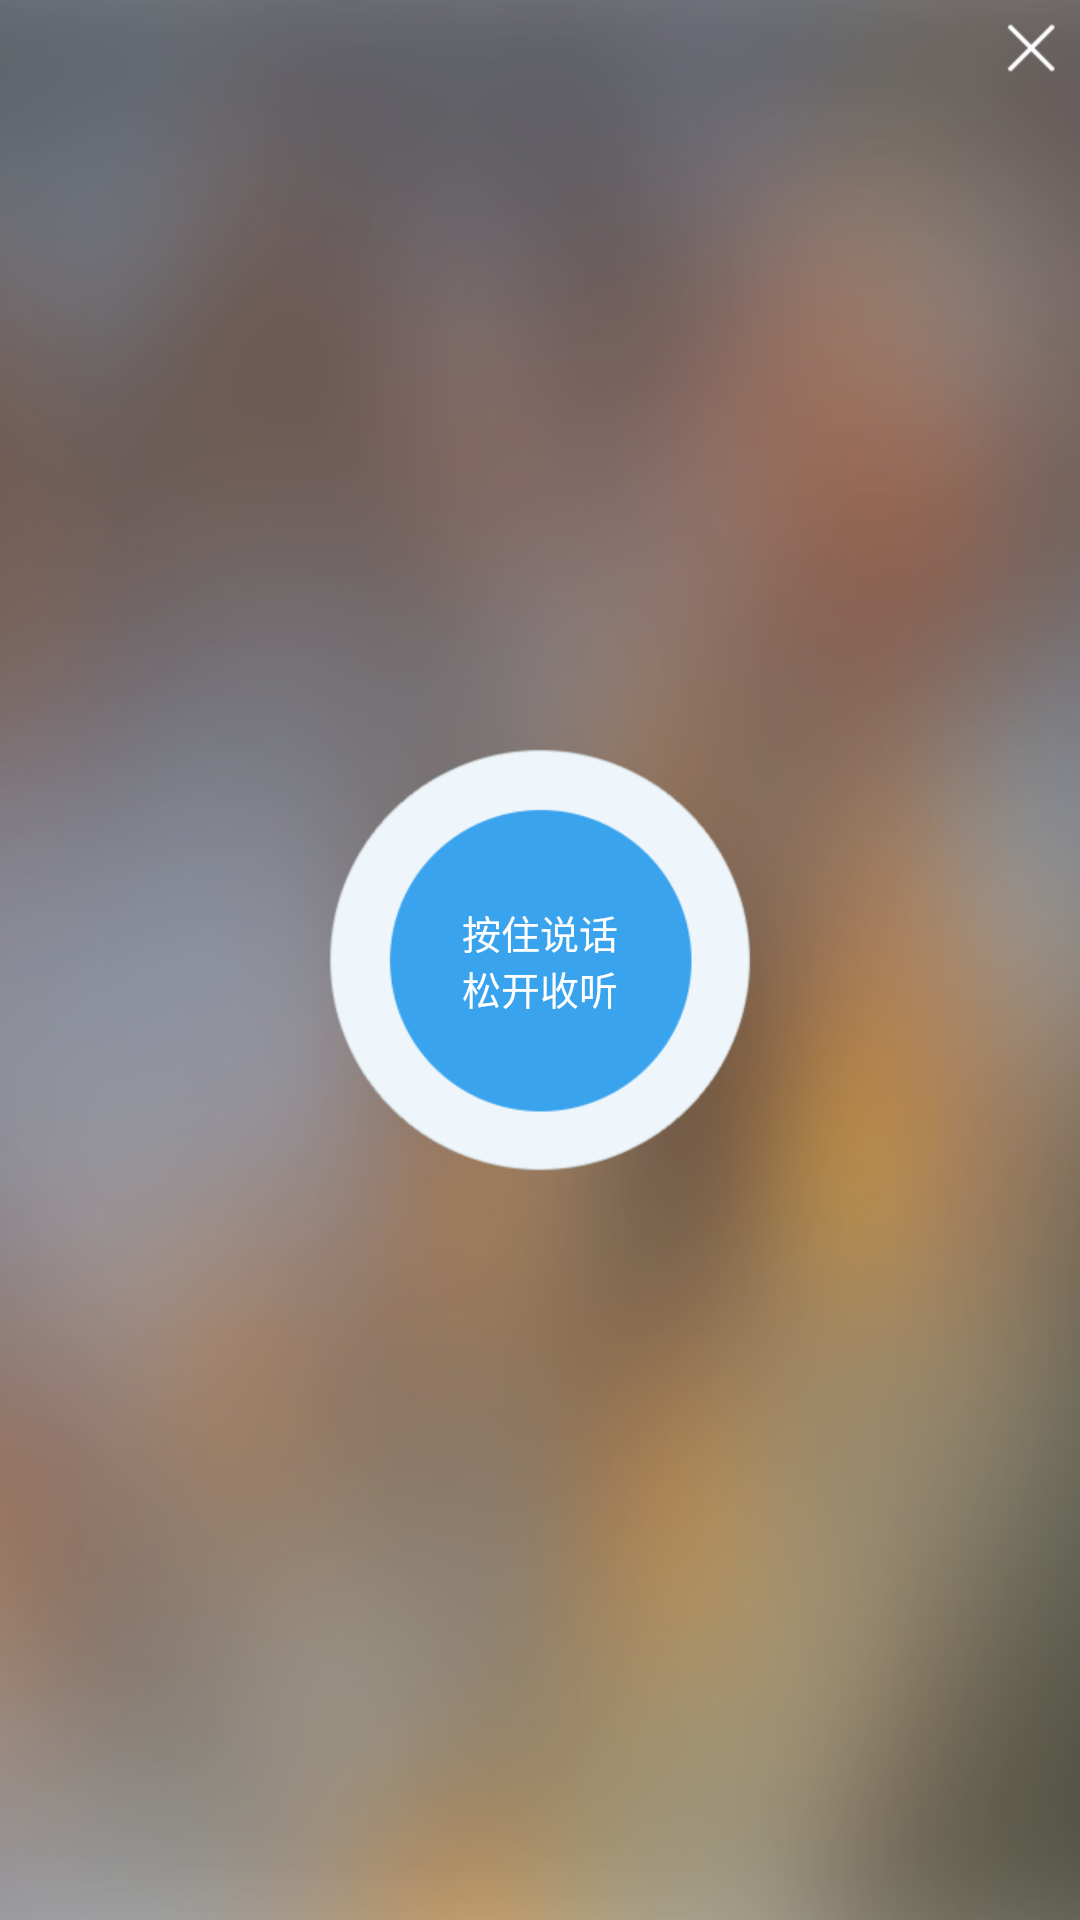

Where icons sit on this 1080px×1920px app screen, as [x1=x1, y1=y1, x2=x2, y2=y2]:
close: [x1=1008, y1=24, x2=1055, y2=72]
